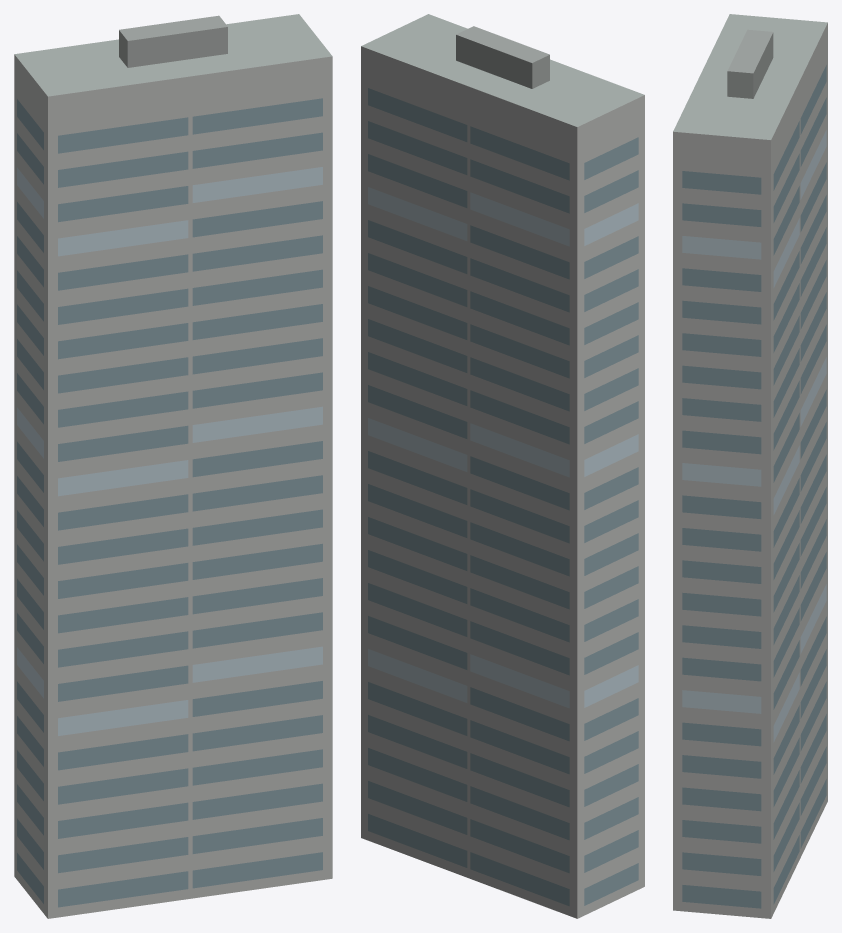
Rendered from fallback-olympic-athletes-village-255.glb.
3 views of the same model, side by side, from view 1: azimuth 30°, elevation 25°; view 2: azimuth 150°, elevation 25°; view 3: azimuth 270°, elevation 25° (orthographic). The views are drawn at different scales.
Parts seen in each view (by area): view 1: fallback-olympic-athletes-village-255; view 2: fallback-olympic-athletes-village-255; view 3: fallback-olympic-athletes-village-255.
Part boxes in pixels (x1,y1,x2,y2): fallback-olympic-athletes-village-255: (14, 14, 332, 918); fallback-olympic-athletes-village-255: (361, 14, 644, 918); fallback-olympic-athletes-village-255: (673, 14, 827, 918).
Size of the model in its own units: 25.44 by 75.6 by 13.2.
